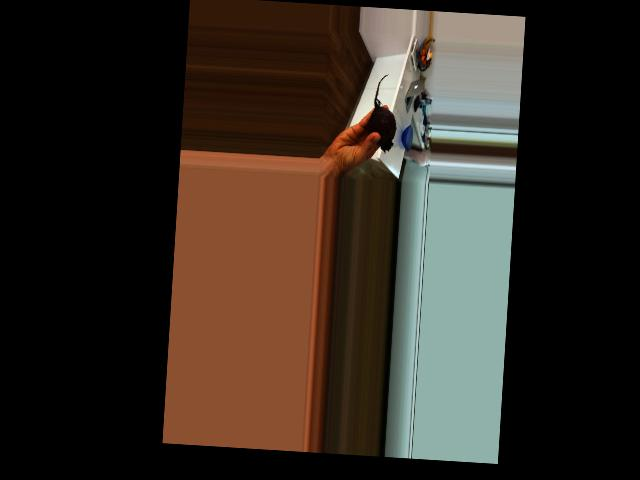beet: (366, 73, 399, 153)
